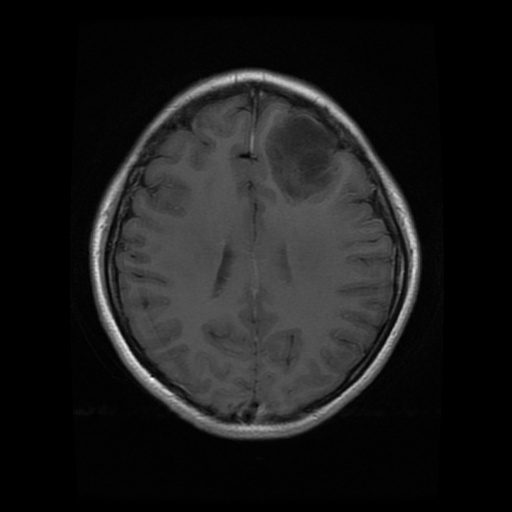glioma: (263, 112, 342, 204)
